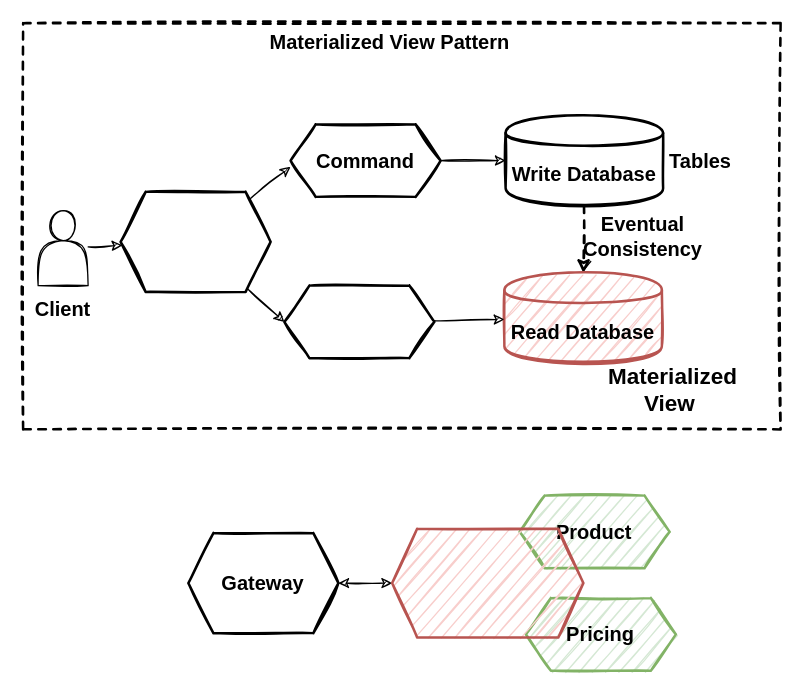
Some shapes in this 803 by 693 pixel diagram are drawn without their labels. Here are the shapes that lost their labels. From the top down, the centre of each, then its label:
pixel 195 241: UI
pixel 358 321: Query
pixel 487 582: ShoppingCart
